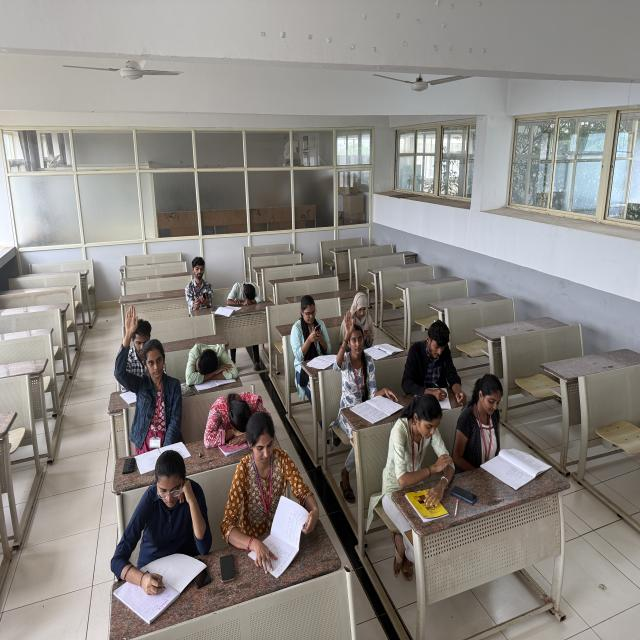Hand Rising: (106, 300, 188, 444), (334, 309, 391, 425)
Reading: (222, 411, 320, 566), (453, 368, 541, 496), (381, 383, 458, 528)
Sleeping: (200, 382, 272, 465), (174, 336, 242, 392), (220, 270, 278, 316)
Using Phone: (285, 287, 332, 378), (179, 252, 219, 324), (338, 288, 379, 345)
Writing: (105, 440, 219, 613), (396, 317, 468, 418)
